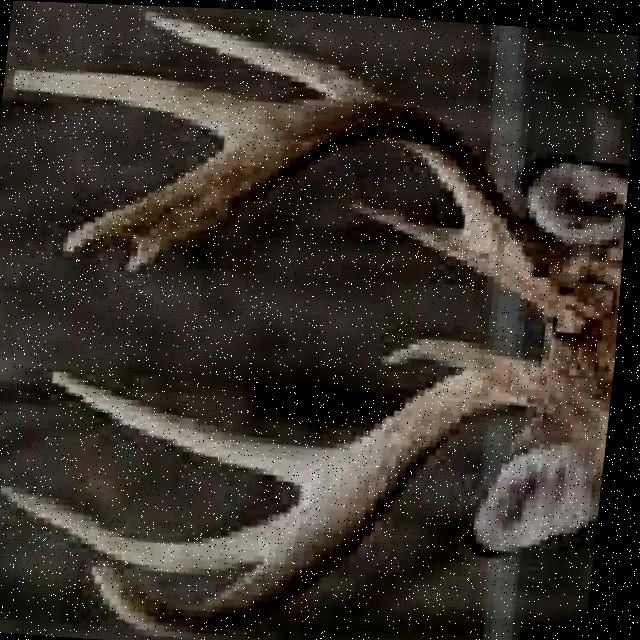E1: (125, 237, 183, 272)
L-F: (60, 95, 618, 329)
L-G1: (344, 191, 490, 271)
L-G2: (140, 6, 382, 96)
L-G3: (9, 66, 294, 137)
R-F: (98, 352, 551, 637)
R-G1: (383, 334, 512, 369)
R-G2: (50, 367, 354, 483)
R-G3: (3, 483, 307, 572)
